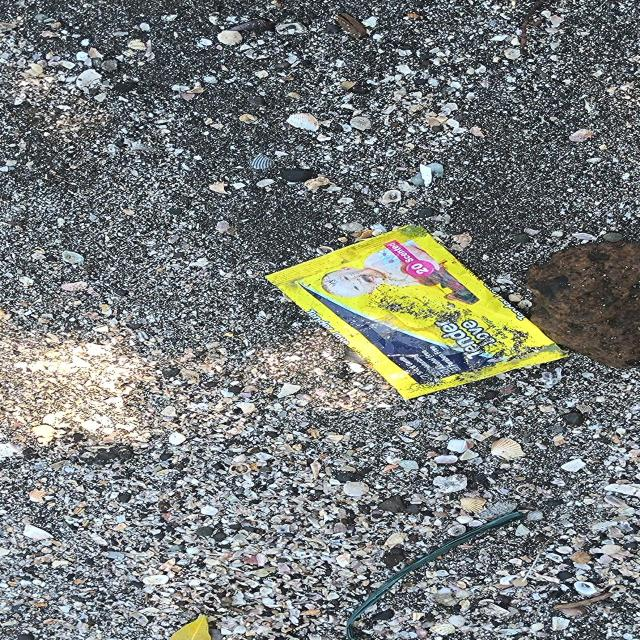plastic_waste: (263, 225, 573, 402)
